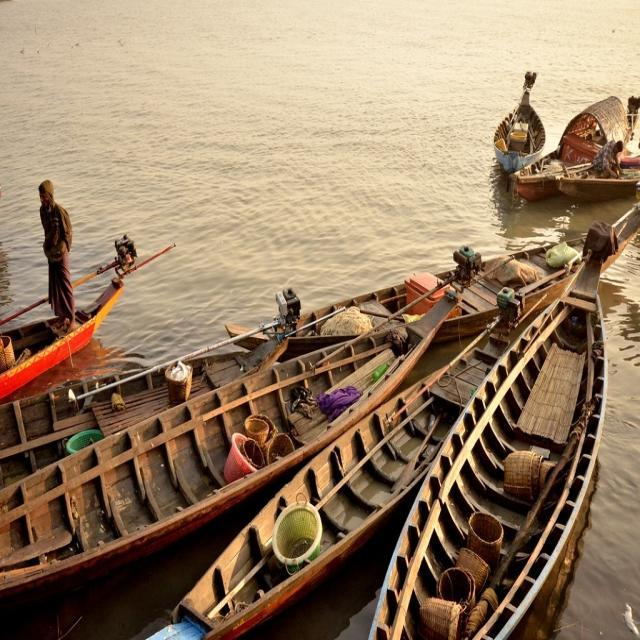boat: (363, 245, 630, 640), (486, 68, 544, 174)
